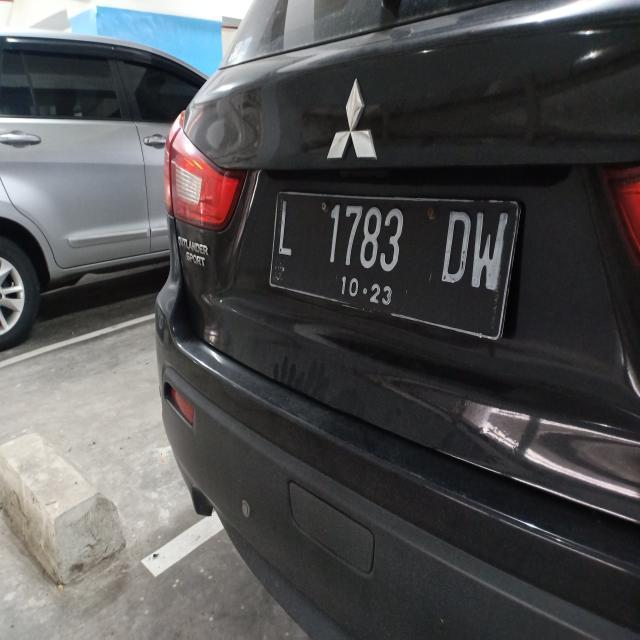1: (326, 199, 341, 272)
3: (382, 206, 405, 276)
7: (342, 201, 360, 272)
8: (361, 206, 381, 278)
D: (443, 205, 471, 285)
L: (276, 198, 296, 258)
W: (472, 206, 508, 292)
